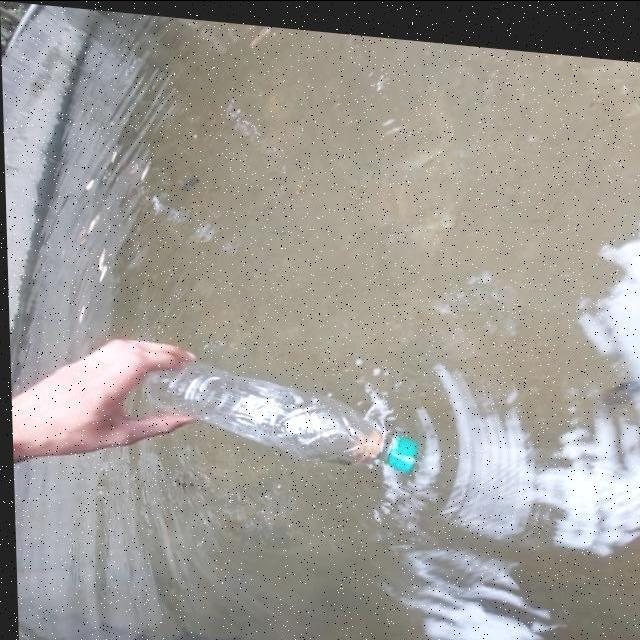Bottle: (140, 339, 428, 482)
